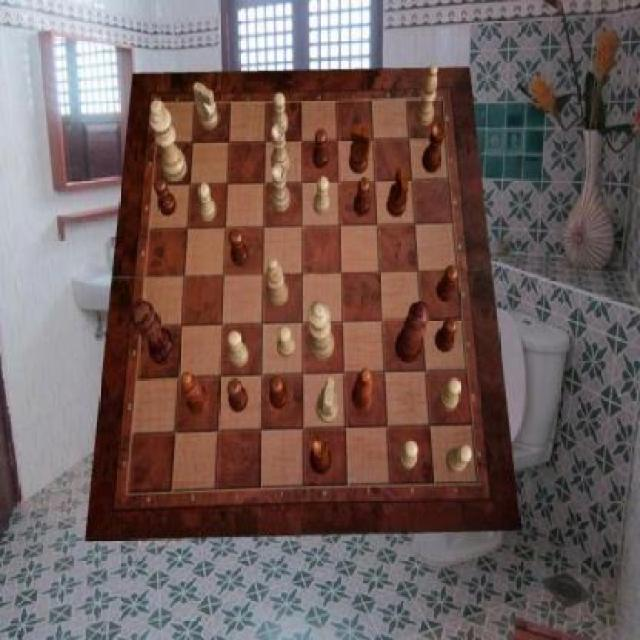bishop: (182, 372, 209, 415), (352, 368, 373, 412)
black-bishop: (131, 298, 177, 364)
black-king: (386, 168, 409, 218), (350, 126, 372, 176)
black-knight: (154, 179, 177, 216), (435, 266, 458, 302), (229, 229, 249, 267), (436, 317, 458, 351), (228, 379, 248, 413), (354, 177, 371, 215), (312, 129, 328, 169), (270, 377, 288, 411)
black-pawn: (395, 301, 431, 364)
black-queen: (423, 123, 446, 174), (309, 437, 332, 477)
black-rook: (416, 65, 438, 127), (266, 257, 289, 306)
white-bishop: (151, 99, 188, 182)
white-king: (194, 83, 218, 131), (315, 377, 338, 423)
white-knight: (446, 444, 473, 474), (228, 331, 248, 367), (440, 378, 461, 412), (272, 94, 288, 135), (199, 183, 216, 221), (314, 177, 331, 215), (277, 326, 296, 359), (398, 440, 418, 471)
white-pawn: (308, 302, 335, 362)
white-queen: (272, 163, 292, 212), (271, 126, 290, 176)
